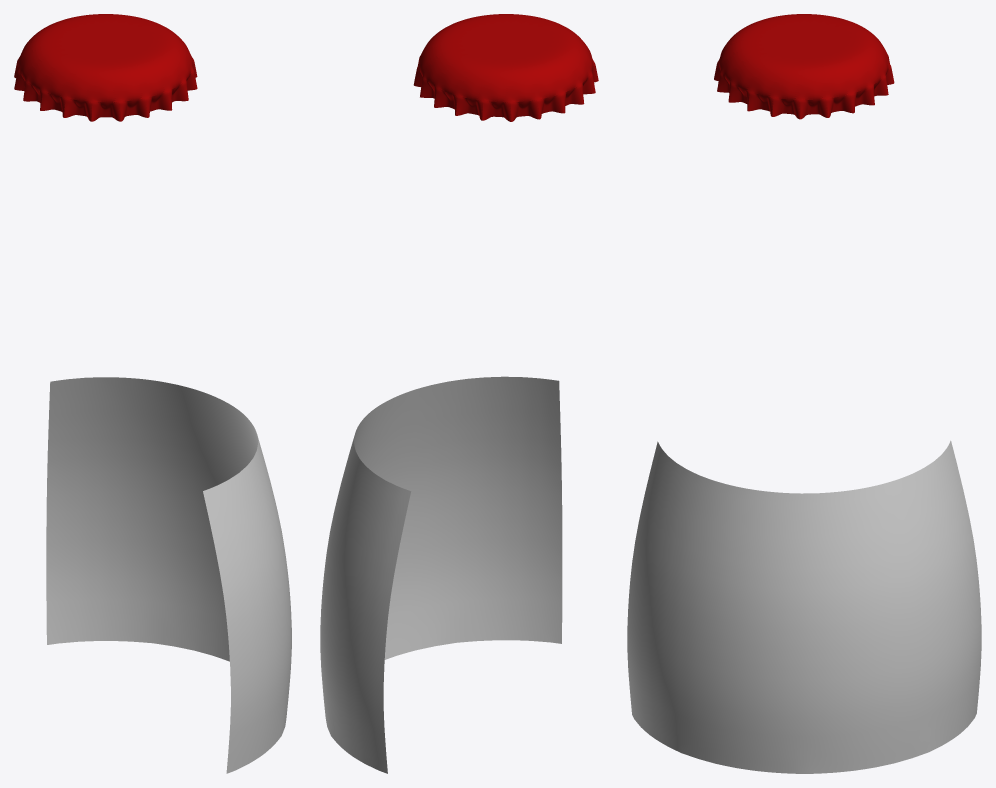
The model's file is bottle.gltf.
The picture shows the model from 3 angles, left to right: view 1: azimuth 30°, elevation 25°; view 2: azimuth 150°, elevation 25°; view 3: azimuth 270°, elevation 25°; orthographic projection. The views are drawn at different scales.
Visible parts, largest first — view 1: Label, Bottle Cap-Red, Bottle Cap-Steel; view 2: Label, Bottle Cap-Red, Bottle Cap-Steel; view 3: Label, Bottle Cap-Red, Bottle Cap-Steel.
Part boxes in pixels (x1,y1,x2,y2): Label: [46, 377, 291, 773]; Bottle Cap-Red: [17, 14, 194, 105]; Bottle Cap-Steel: [14, 61, 197, 121]; Label: [320, 376, 562, 773]; Bottle Cap-Red: [417, 14, 595, 105]; Bottle Cap-Steel: [413, 59, 598, 121]; Label: [627, 440, 981, 773]; Bottle Cap-Red: [717, 14, 891, 103]; Bottle Cap-Steel: [714, 57, 894, 119].
Size of what is drawn, in the model's own units: 11.19 by 29.98 by 14.6.
